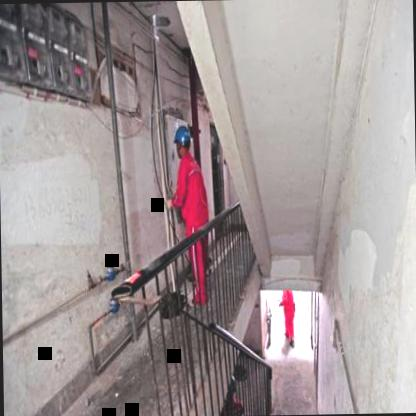helmet: (168, 119, 194, 158)
